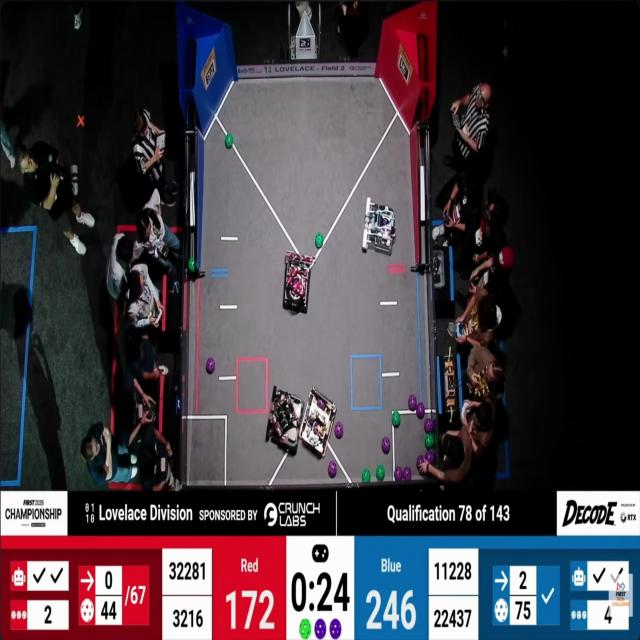artifact_green: (300, 619, 311, 639), (376, 465, 385, 481), (425, 433, 434, 448), (392, 411, 400, 427), (188, 256, 196, 272), (315, 234, 323, 249), (225, 134, 233, 149), (362, 469, 370, 483)
artifact_purple: (315, 619, 326, 639), (330, 619, 341, 639), (415, 402, 425, 419), (206, 357, 215, 375), (382, 437, 391, 454), (328, 461, 337, 477), (408, 395, 417, 411), (425, 450, 435, 464), (335, 422, 343, 439), (395, 467, 403, 481), (425, 419, 433, 433), (317, 398, 326, 410), (417, 455, 424, 470), (403, 467, 411, 480), (313, 423, 318, 435)
